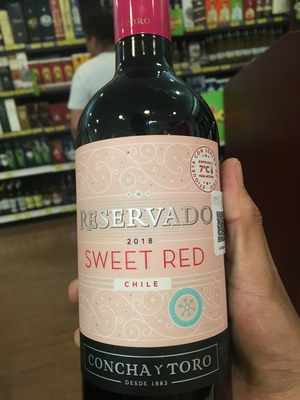reservado sweet red: (70, 13, 233, 400)
